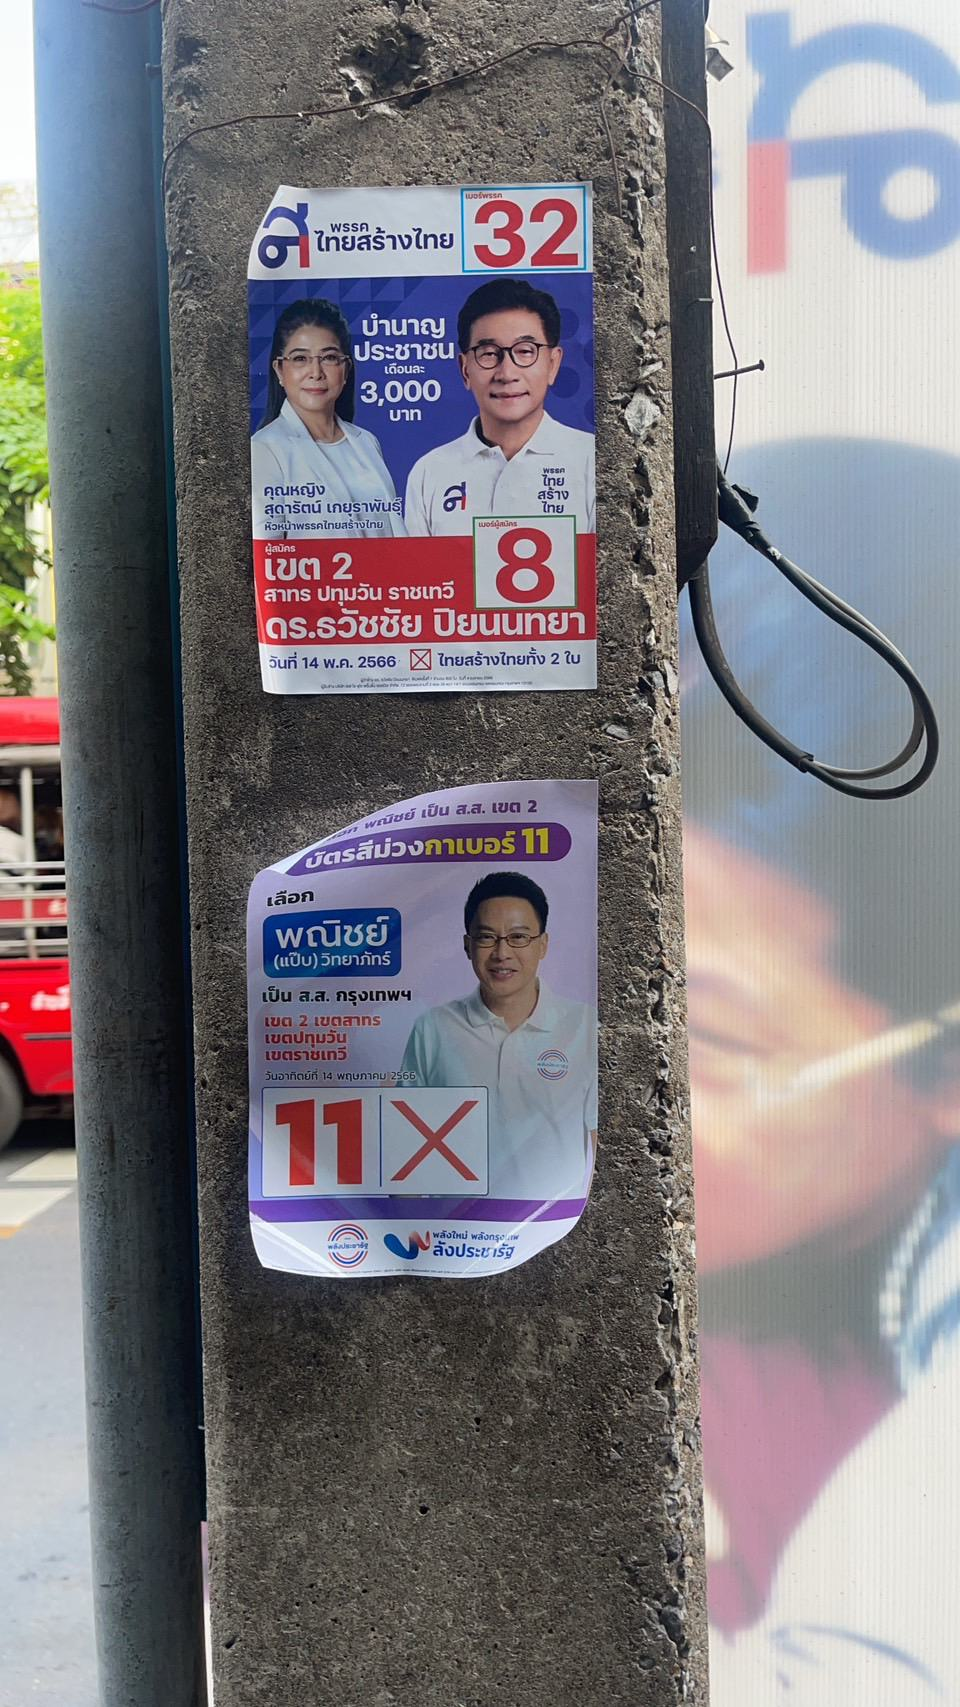Banner: (244, 188, 601, 695), (259, 776, 595, 1290)
